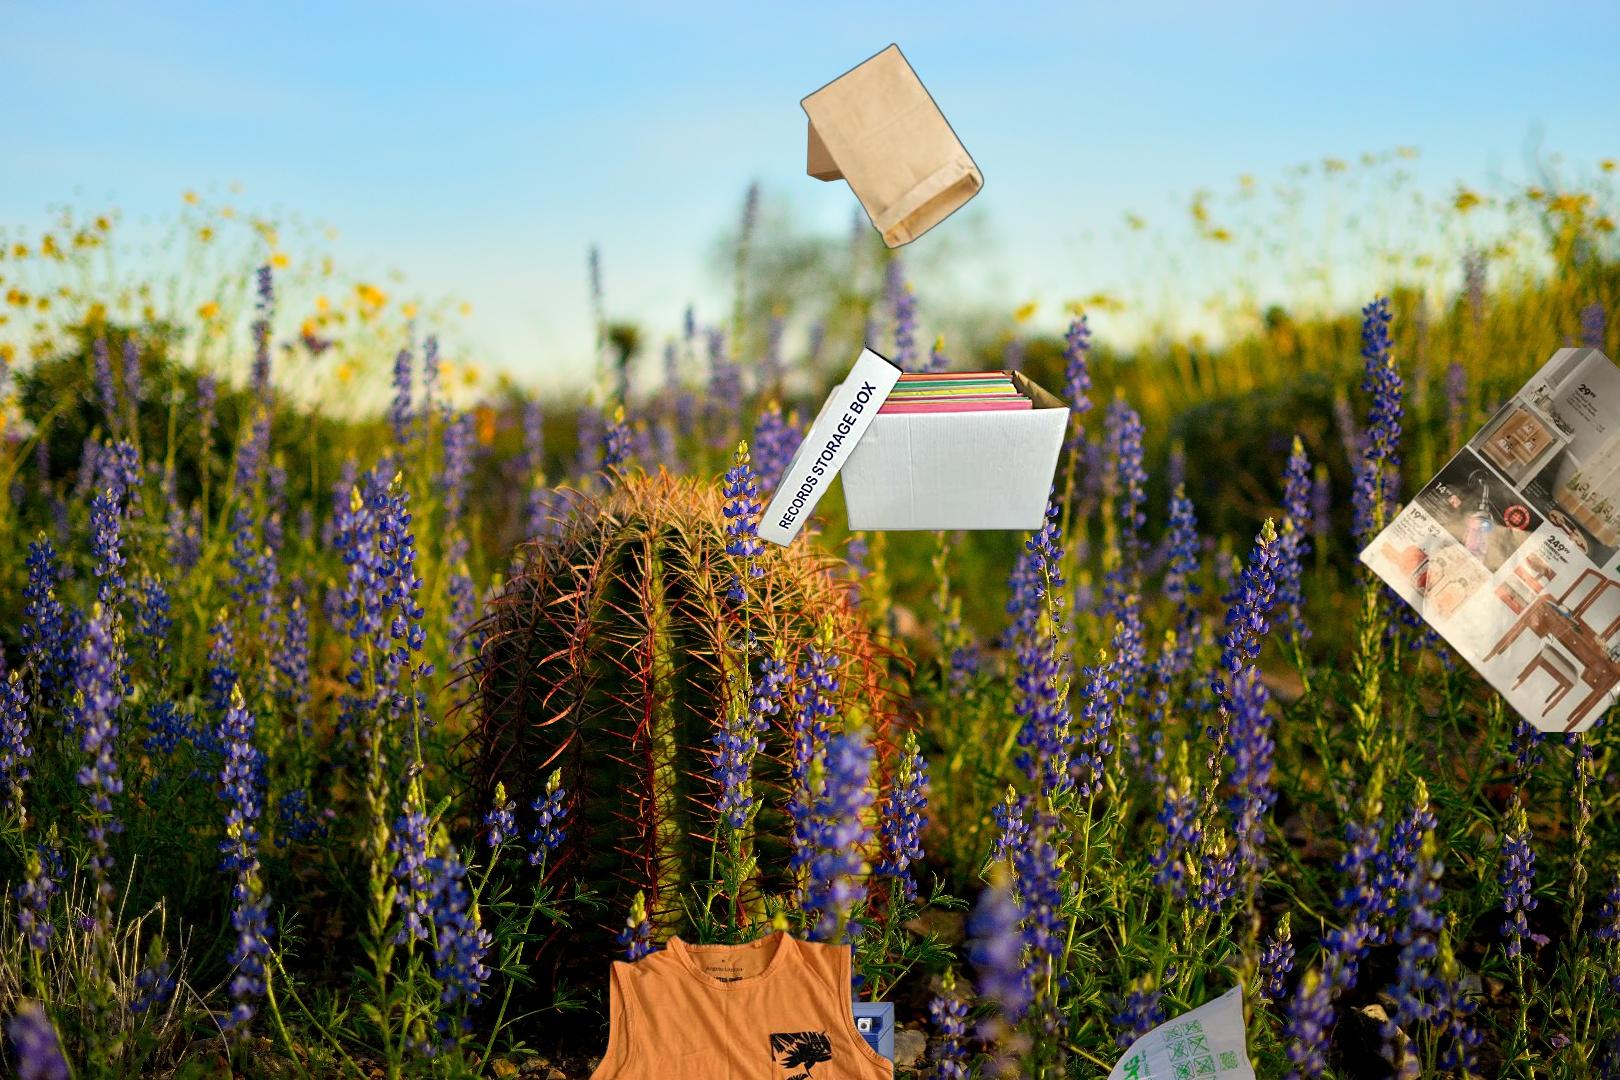battery: (708, 999, 898, 1080)
clothes: (546, 925, 939, 1080)
paper: (1354, 348, 1620, 732), (1363, 1017, 1620, 1080)
paper-bag: (797, 41, 985, 251)
plastic-bag: (1046, 979, 1284, 1080)
trashbox-cardboard: (755, 334, 1073, 551)
